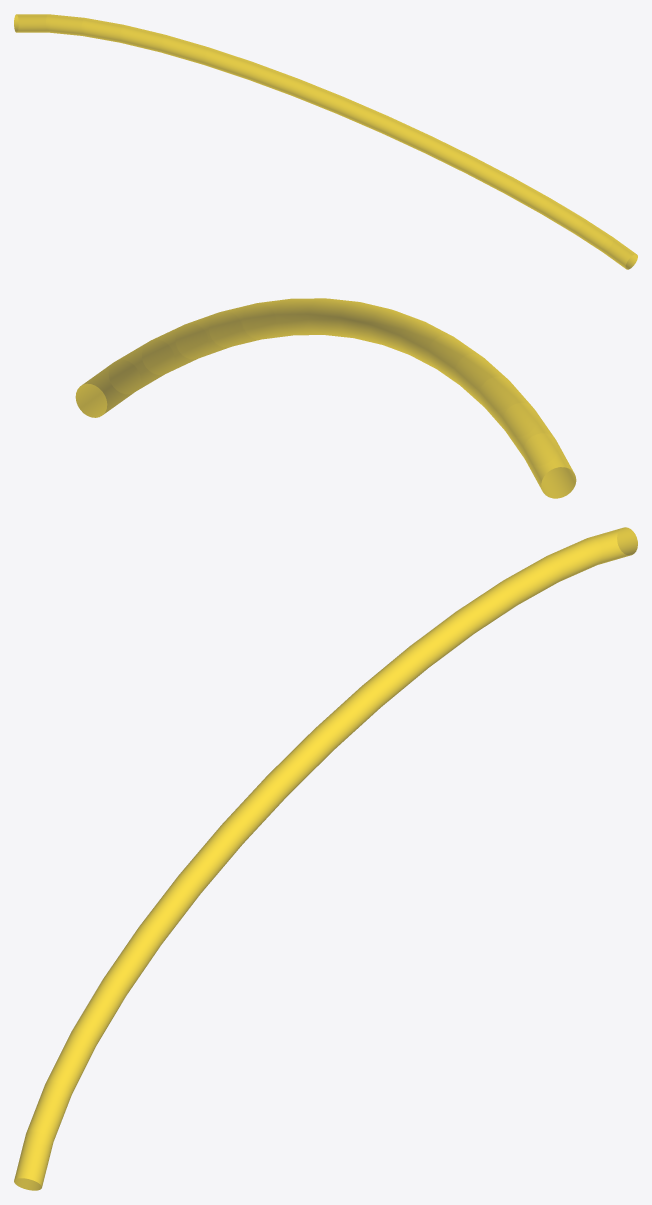
Rendered from Event_100608114_track_115.fbx.
3 renders of one model, top to bottom at view 1: azimuth 30°, elevation 25°; view 2: azimuth 150°, elevation 25°; view 3: azimuth 270°, elevation 25°, orthographic. The views are drawn at different scales.
Parts seen in each view (by area): view 1: Model; view 2: Model; view 3: Model.
Part boxes in pixels (x1,y1,x2,y2): Model: (14,14,637,269); Model: (75,298,576,498); Model: (14,527,637,1190).
Size of the model in its own units: 1.1 by 0.5295 by 0.8653.
